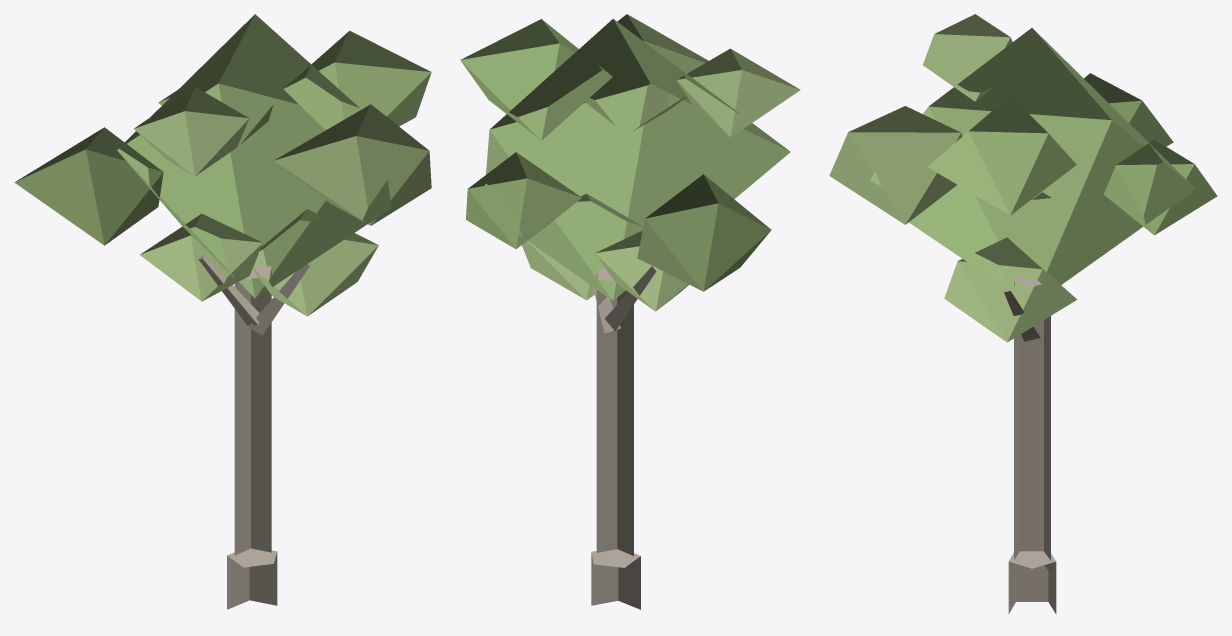
The model's file is tree.cold.birch__spring.glb.
The picture shows the model from 3 angles, left to right: view 1: azimuth 30°, elevation 25°; view 2: azimuth 150°, elevation 25°; view 3: azimuth 270°, elevation 25°; orthographic projection. The views are drawn at different scales.
Visible parts, largest first — view 1: tree.cold.birch__spring; view 2: tree.cold.birch__spring; view 3: tree.cold.birch__spring.
Part boxes in pixels (x1=…): tree.cold.birch__spring: x1=14, y1=14, x2=431, y2=609; tree.cold.birch__spring: x1=460, y1=14, x2=800, y2=609; tree.cold.birch__spring: x1=829, y1=14, x2=1217, y2=614.
Bounding box in the file's own units: 6.03 × 9.83 × 5.93.
